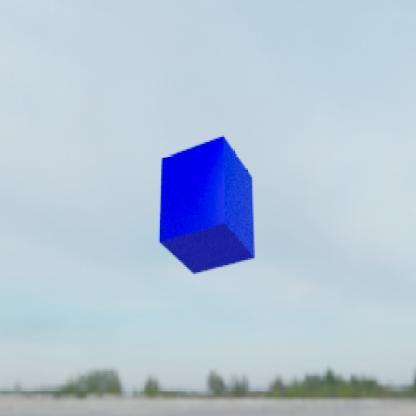cube: (157, 133, 255, 274)
